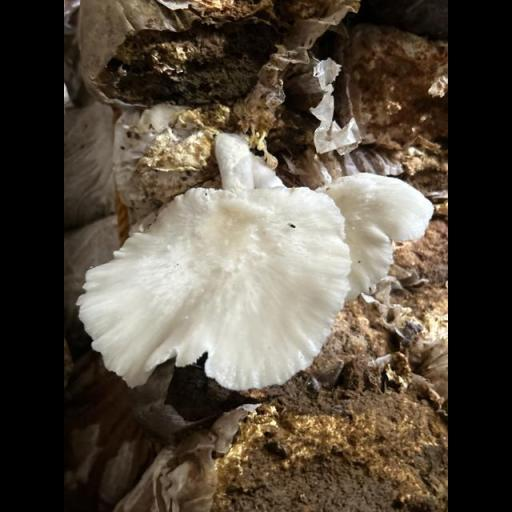White Oyster Mushroom: (71, 142, 440, 387)
